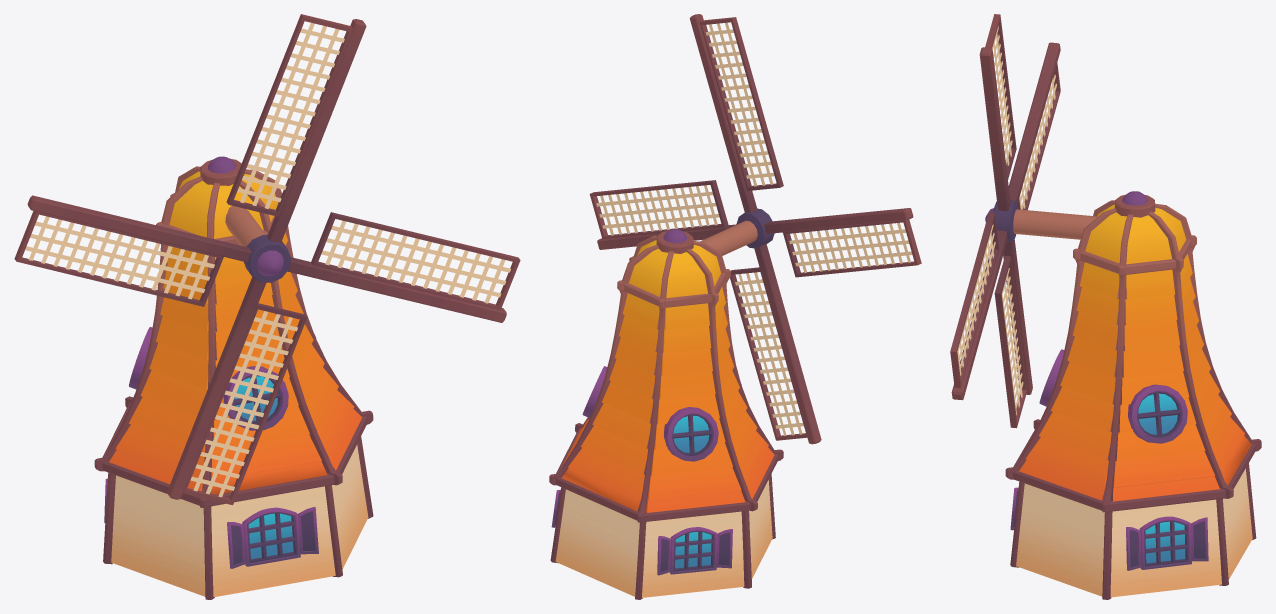
File: windmill.glb
The picture shows the model from 3 angles, left to right: view 1: azimuth 30°, elevation 25°; view 2: azimuth 150°, elevation 25°; view 3: azimuth 270°, elevation 25°; orthographic projection. The views are drawn at different scales.
Parts seen in each view (by area): view 1: Windmill.001_Material.005_0; view 2: Windmill.001_Material.005_0; view 3: Windmill.001_Material.005_0.
Part boxes in pixels (x1=…): Windmill.001_Material.005_0: x1=14, y1=14, x2=520, y2=599; Windmill.001_Material.005_0: x1=549, y1=14, x2=921, y2=599; Windmill.001_Material.005_0: x1=950, y1=14, x2=1261, y2=599.
Size of the model in its own units: 10.64 by 13.3 by 6.97.
1 material, 1 textured.
